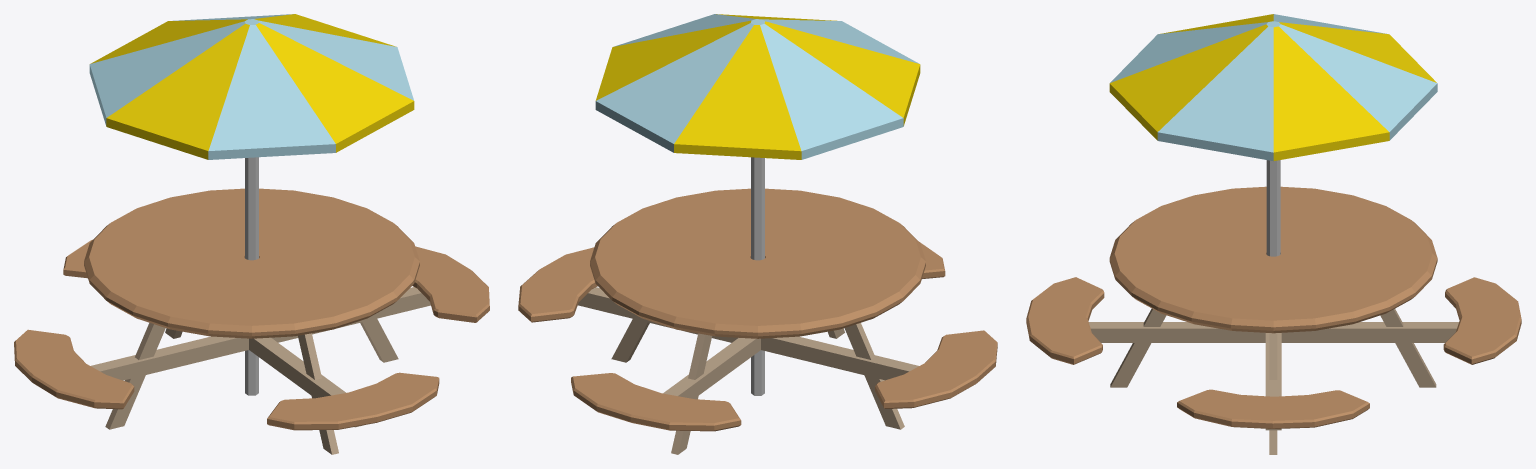
The model's file is Circle Bench.fbx.
3 renders of one model, left to right at view 1: azimuth 30°, elevation 25°; view 2: azimuth 150°, elevation 25°; view 3: azimuth 270°, elevation 25°, orthographic. The views are drawn at different scales.
Parts seen in each view (by area): view 1: Umbrella.002; view 2: Umbrella.002; view 3: Umbrella.002.
Boxes of the visible parts, <box> form: Umbrella.002: <box>14,14,489,454</box>; Umbrella.002: <box>518,14,997,454</box>; Umbrella.002: <box>1026,14,1521,454</box>.
Bounding box in the file's own units: 302 × 244 × 302.
